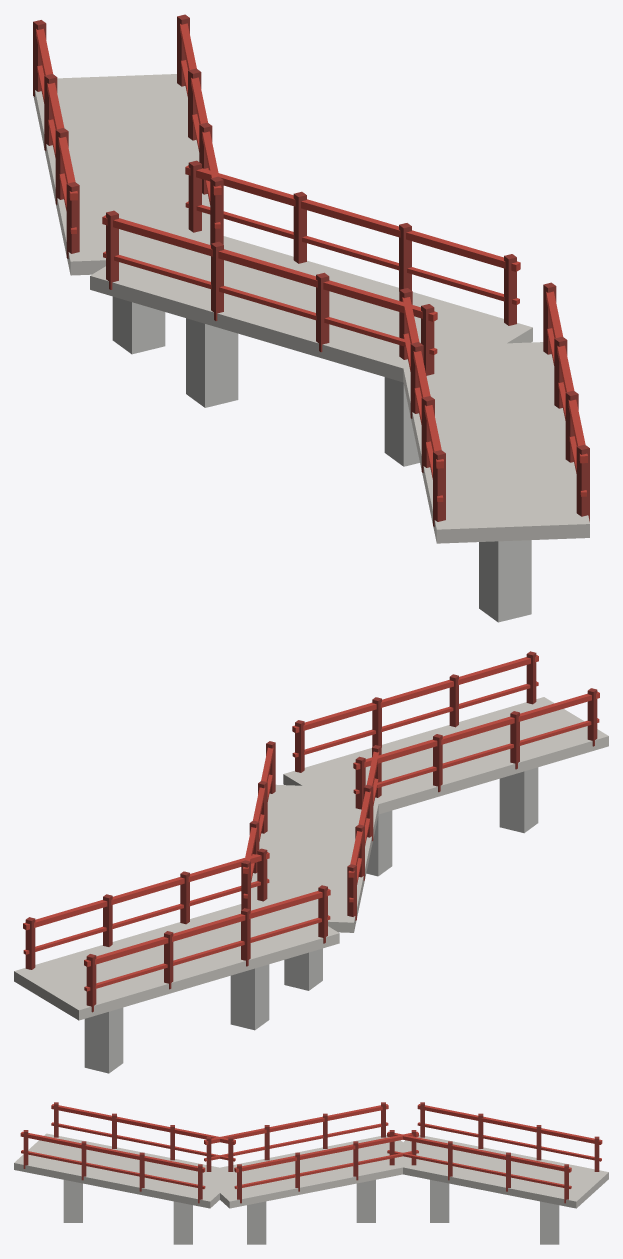
Rendered from cn_zigzag_bridge.glb.
The picture shows the model from 3 angles, top to bottom: view 1: azimuth 30°, elevation 25°; view 2: azimuth 150°, elevation 25°; view 3: azimuth 270°, elevation 25°; orthographic projection. The views are drawn at different scales.
Visible parts, largest first — view 1: cn_zigzag_bridge; view 2: cn_zigzag_bridge; view 3: cn_zigzag_bridge.
Part boxes in pixels (bbox=[...]): cn_zigzag_bridge: bbox=[33, 14, 589, 622]; cn_zigzag_bridge: bbox=[14, 651, 608, 1073]; cn_zigzag_bridge: bbox=[14, 1102, 608, 1244].
Bounding box in the file's own units: 3.35 × 2.19 × 12.37.
